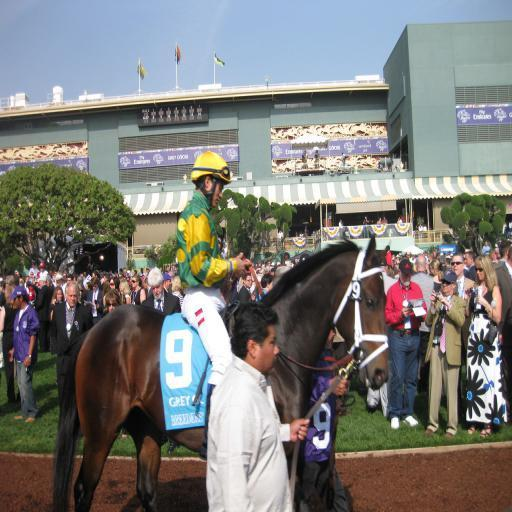horse: (50, 230, 389, 512)
